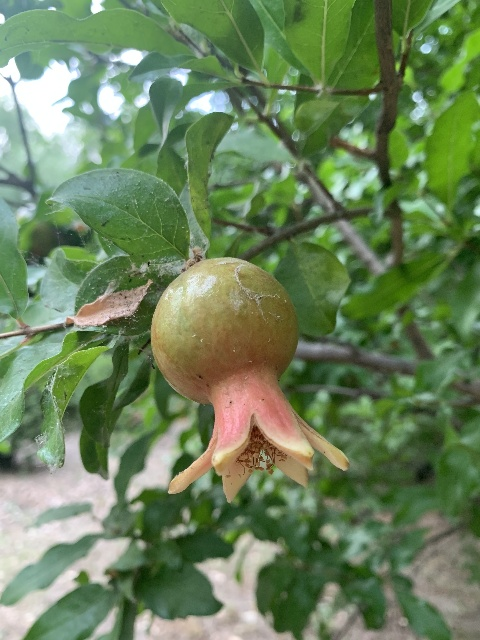mid-growth: (150, 257, 343, 503)
